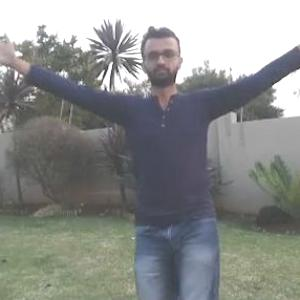takeoff: (7, 26, 300, 299)
